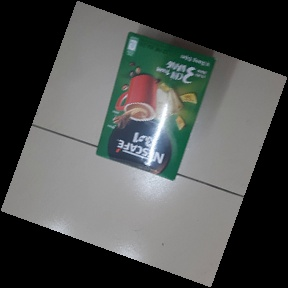Nes Rang: (93, 31, 217, 181)
